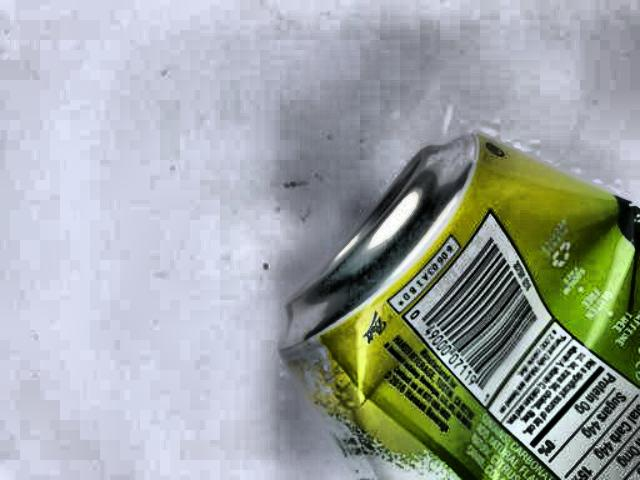Bottles: (262, 121, 640, 480)
